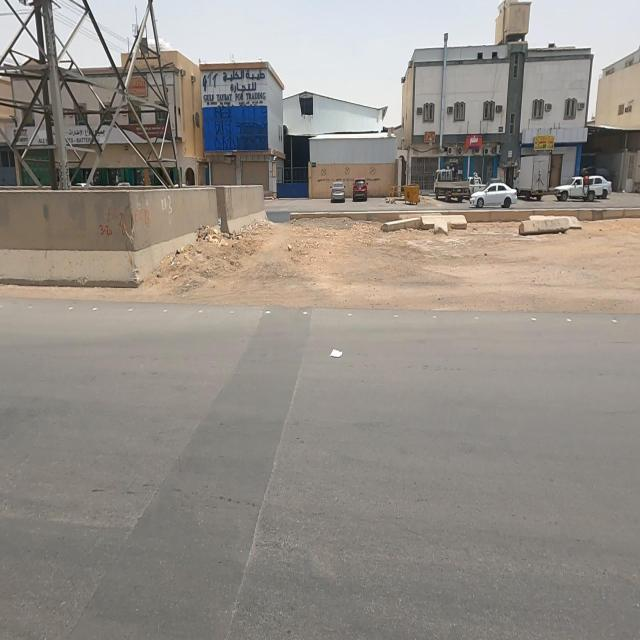Graffiti: (117, 207, 155, 236), (317, 169, 335, 184), (161, 196, 174, 216), (338, 168, 355, 183), (367, 167, 382, 183), (103, 205, 117, 222), (99, 223, 112, 239)
